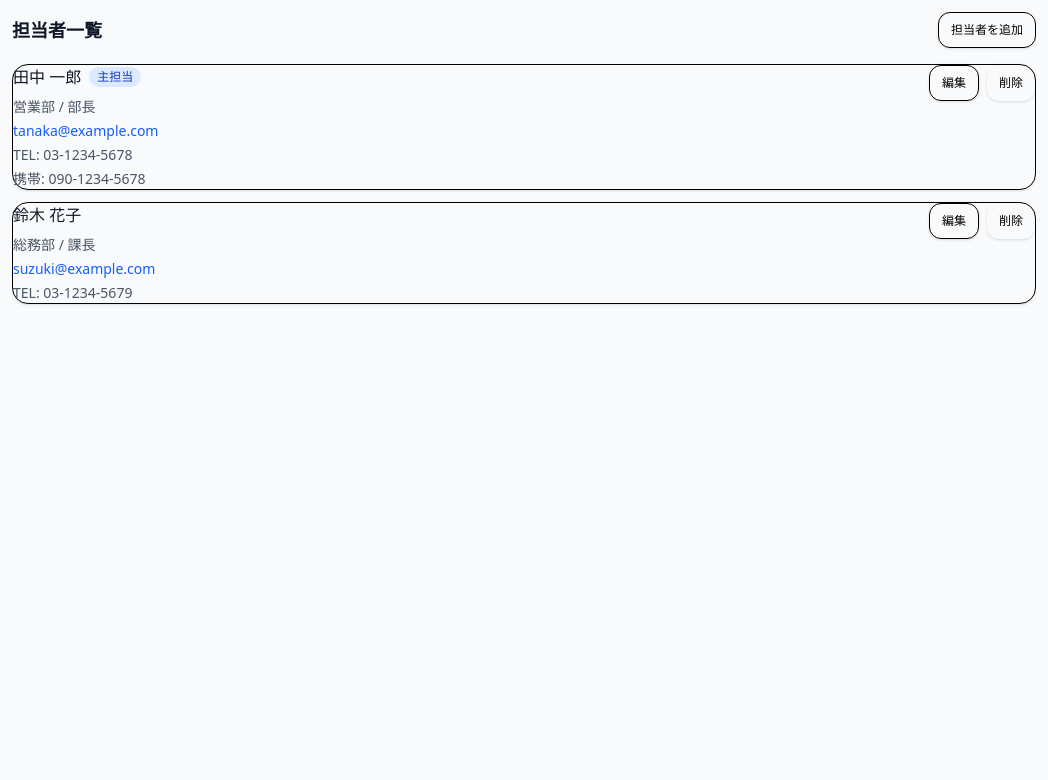
CustomerContactList › バリデーション › 氏名が空の場合、エラーが表示される
Step 1. Click the button "担当者を追加" → {"x": 987, "y": 30}, box 938,12 -> 1036,48
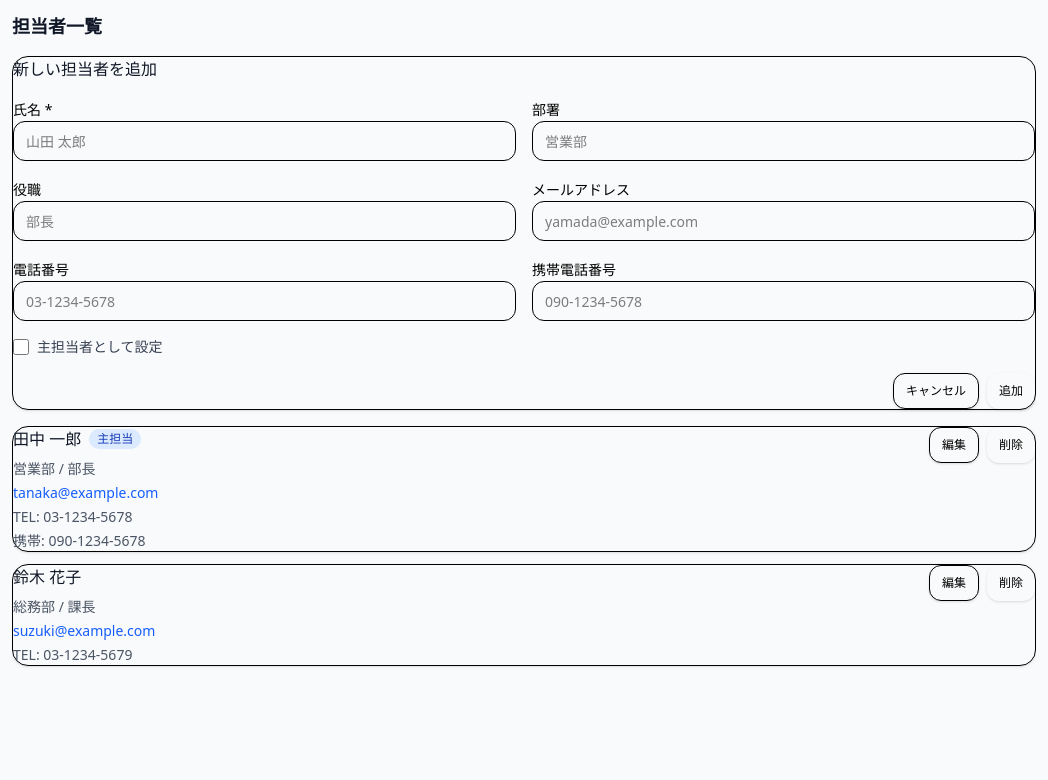
Step 2. Click the field labelled "氏名 *" → {"x": 264, "y": 141}, box 13,121 -> 516,161
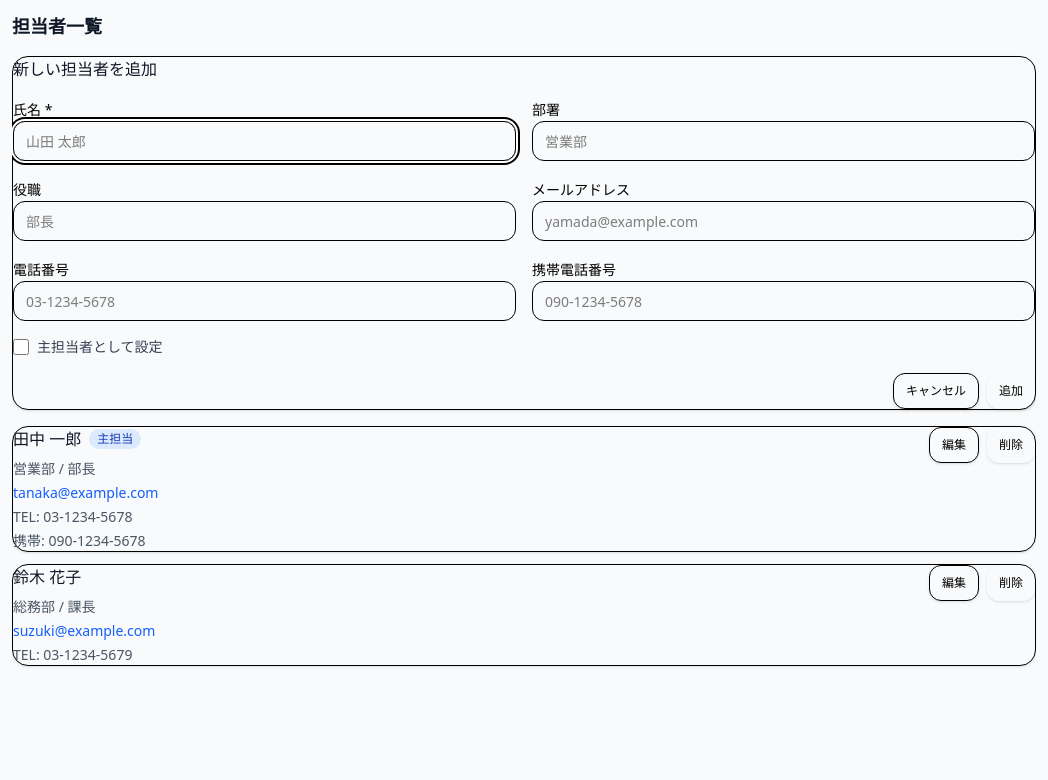
Step 3. Press Tab
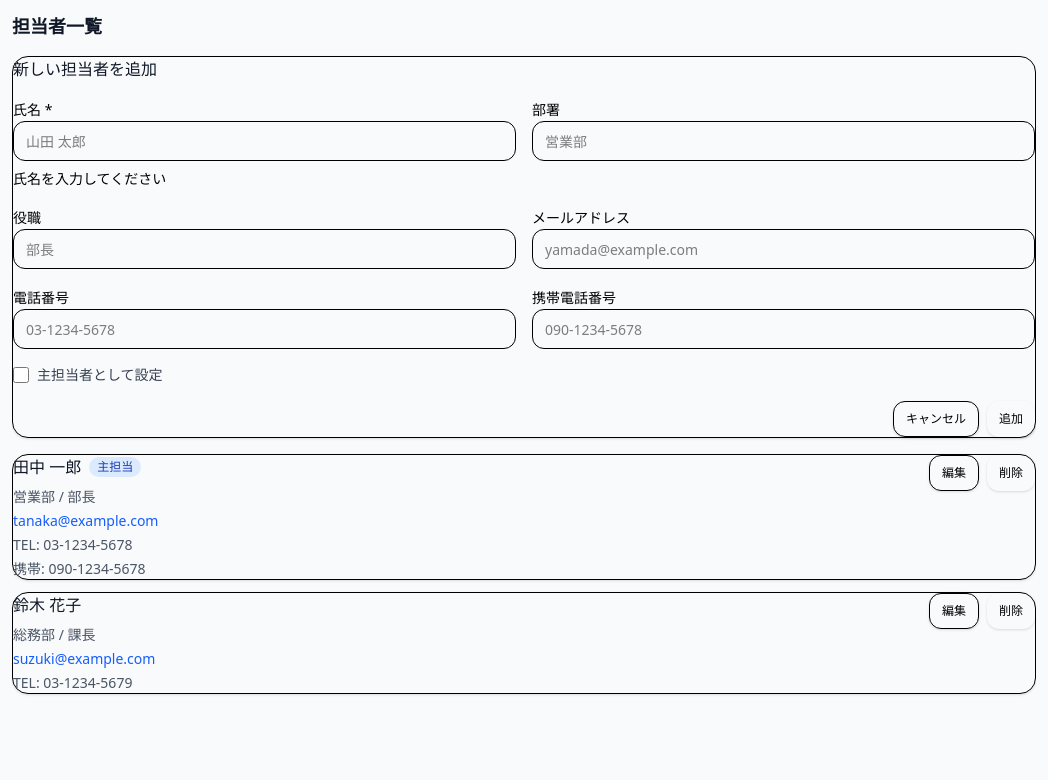
Expected: the text "氏名を入力してください" is shown, 13,169 -> 166,188
